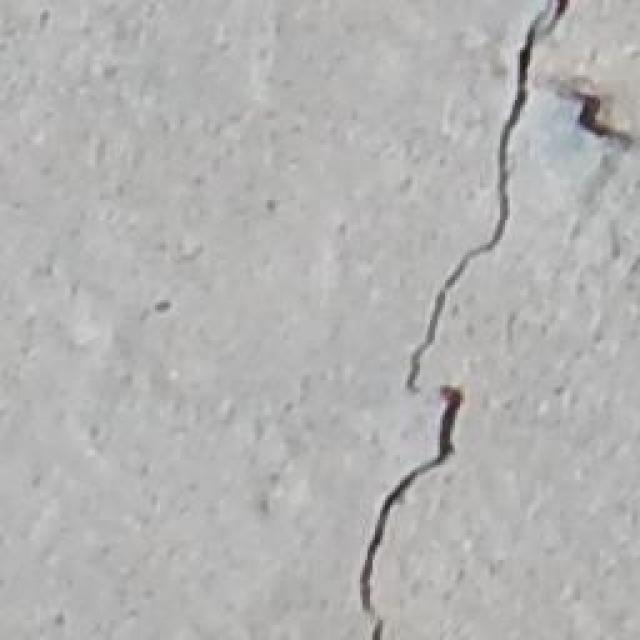concrete-crack: (398, 0, 632, 400), (360, 388, 462, 640)
